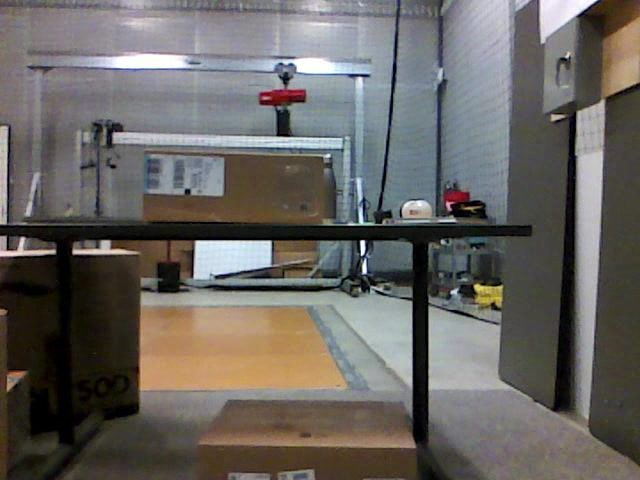box: (1, 250, 140, 424), (198, 398, 418, 480), (144, 151, 324, 223)
